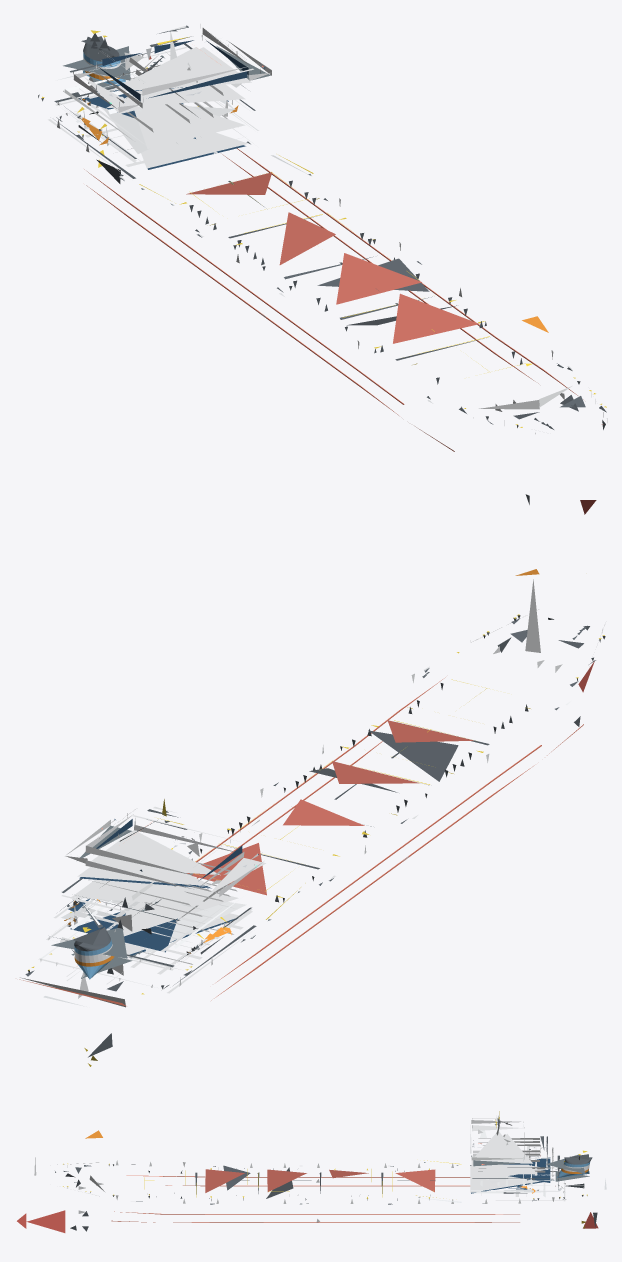
The model's file is ship_28.glb.
3 views of the same model, one above another, from view 1: azimuth 30°, elevation 25°; view 2: azimuth 150°, elevation 25°; view 3: azimuth 270°, elevation 25° (orthographic). The views are drawn at different scales.
Visible parts, largest first — view 1: TrueHelm_Ship_28; view 2: TrueHelm_Ship_28; view 3: TrueHelm_Ship_28.
Part boxes in pixels (box(x1,y1,x2,y2)): TrueHelm_Ship_28: box(38, 24, 607, 514); TrueHelm_Ship_28: box(19, 569, 605, 1066); TrueHelm_Ship_28: box(17, 1111, 606, 1232).
Bounding box in the file's own units: 0.1338 × 0.1797 × 0.8057.
